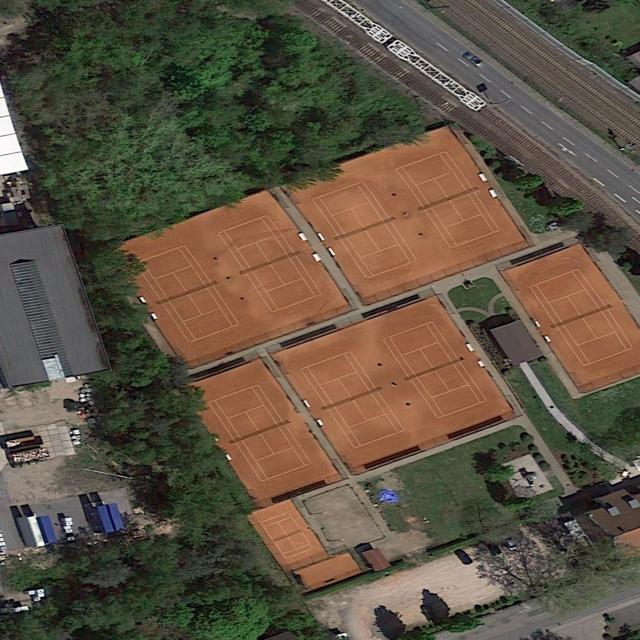small-vehicle: (452, 547, 474, 566), (483, 538, 503, 556), (462, 51, 484, 67), (500, 533, 519, 551)
